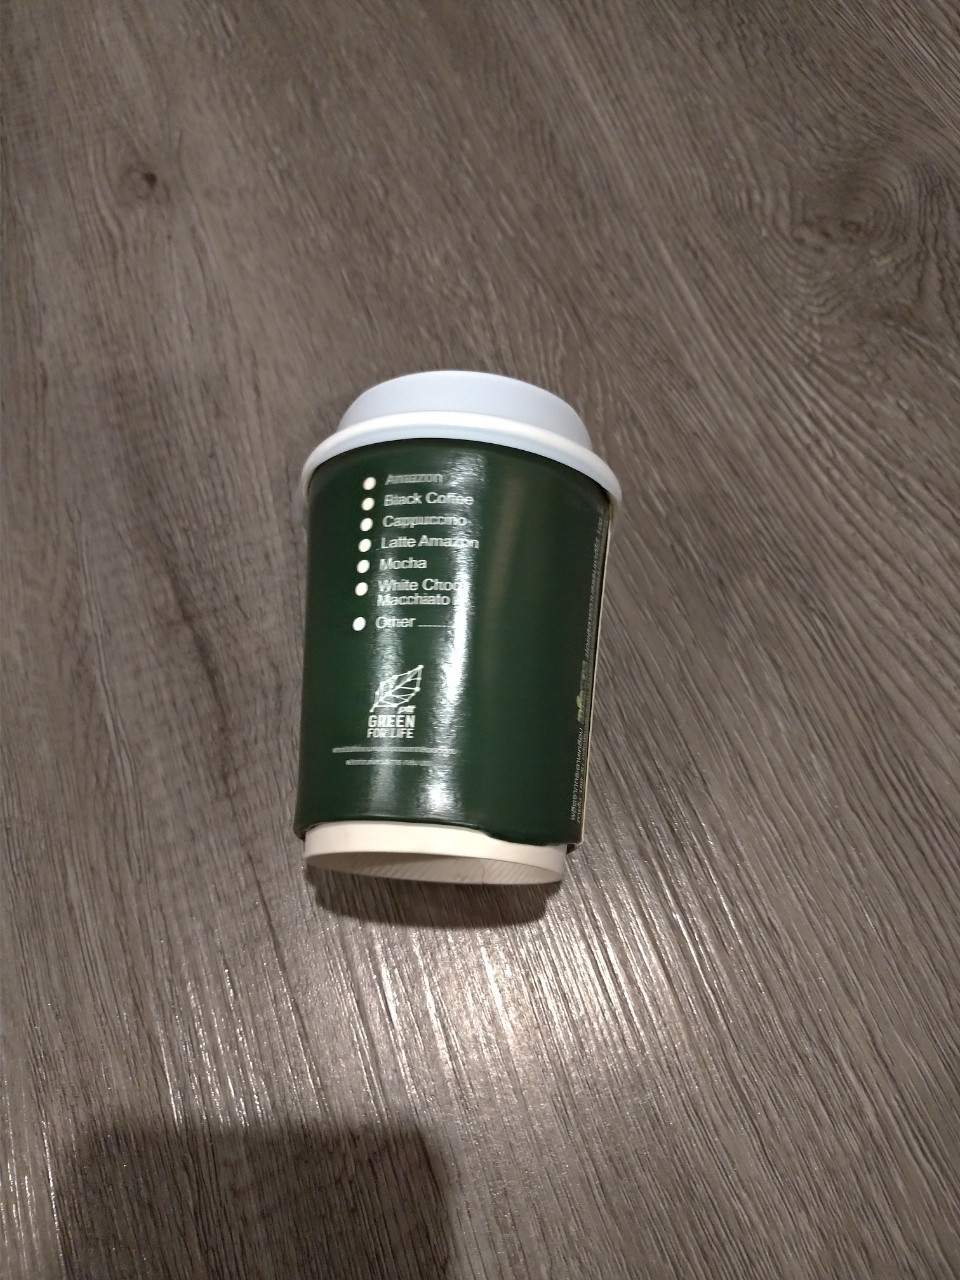PaperCup: (297, 366, 620, 900)
